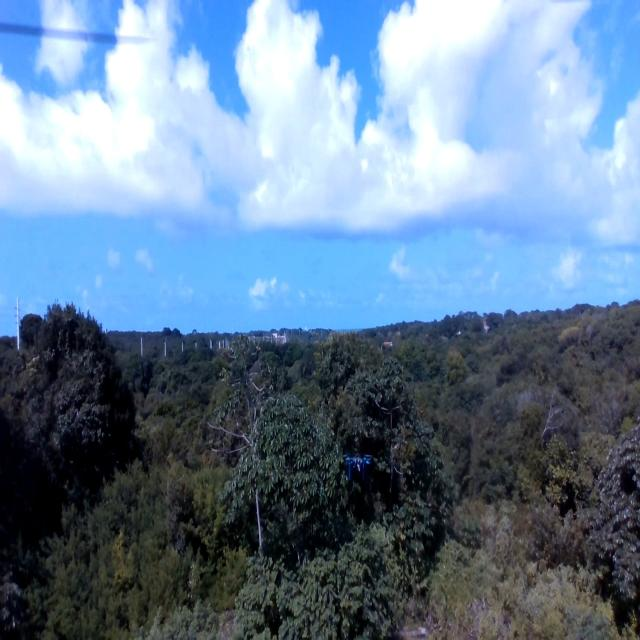-uav-: (348, 449, 372, 487)
